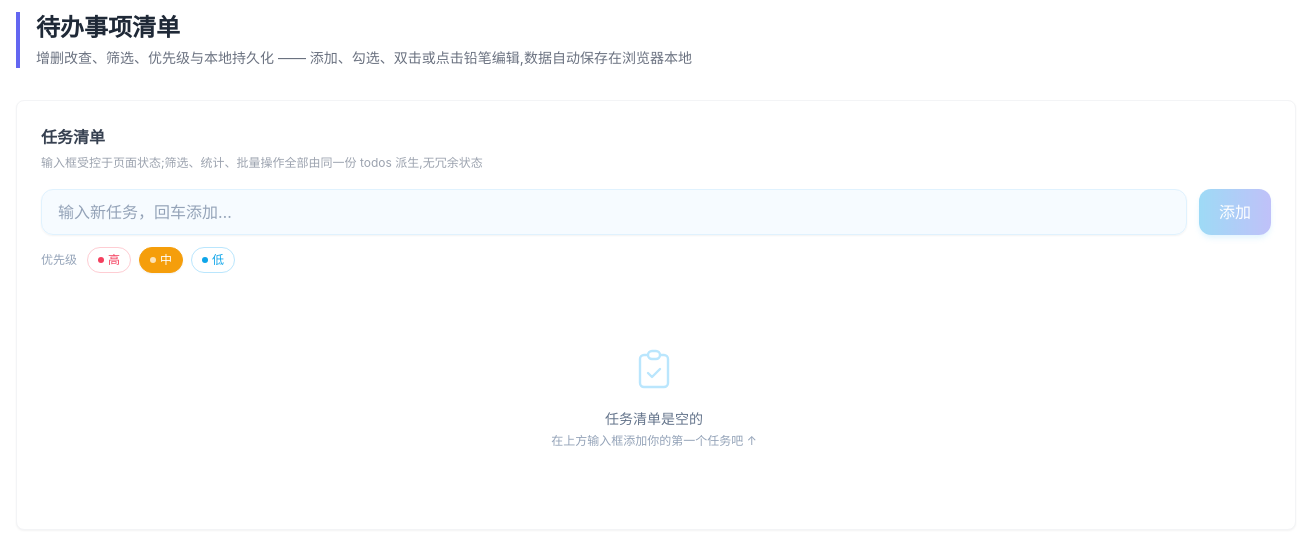
Scenario: Todo 页面 — 任务操作 › 全部已完成时，"全部完成"按钮文字变为"取消全选"
Type "唯一任务" into the field with placeholder "输入新任务，回车添加…".
click(614, 212); type("唯一任务")  # box [41,188,1187,234]
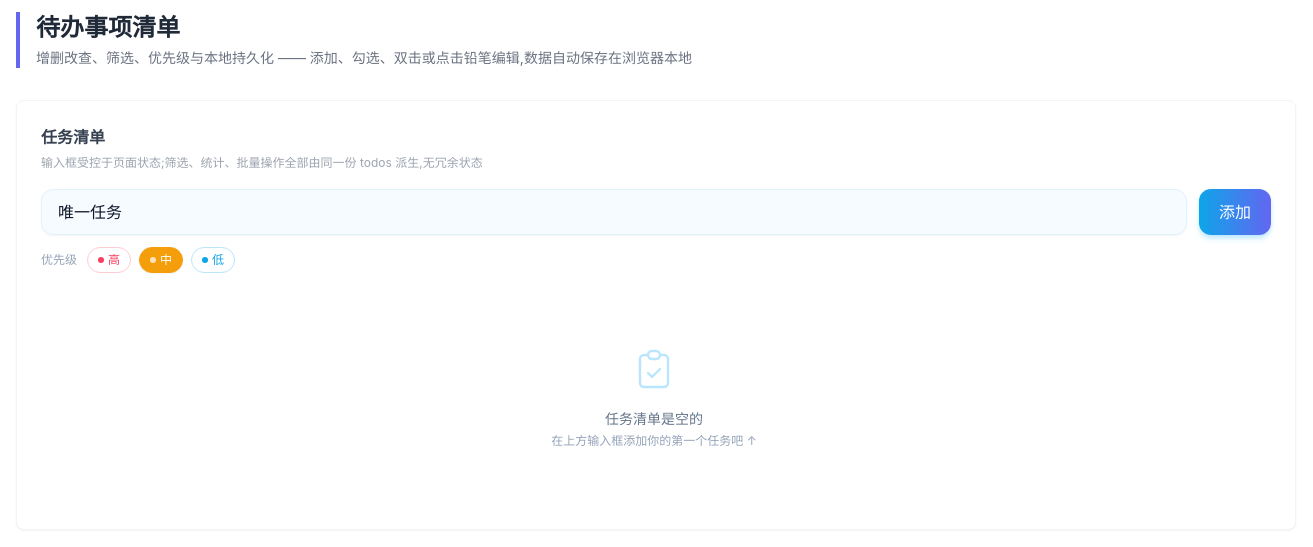
Click the button "添加".
click(1235, 212)  # box [1199,188,1271,234]
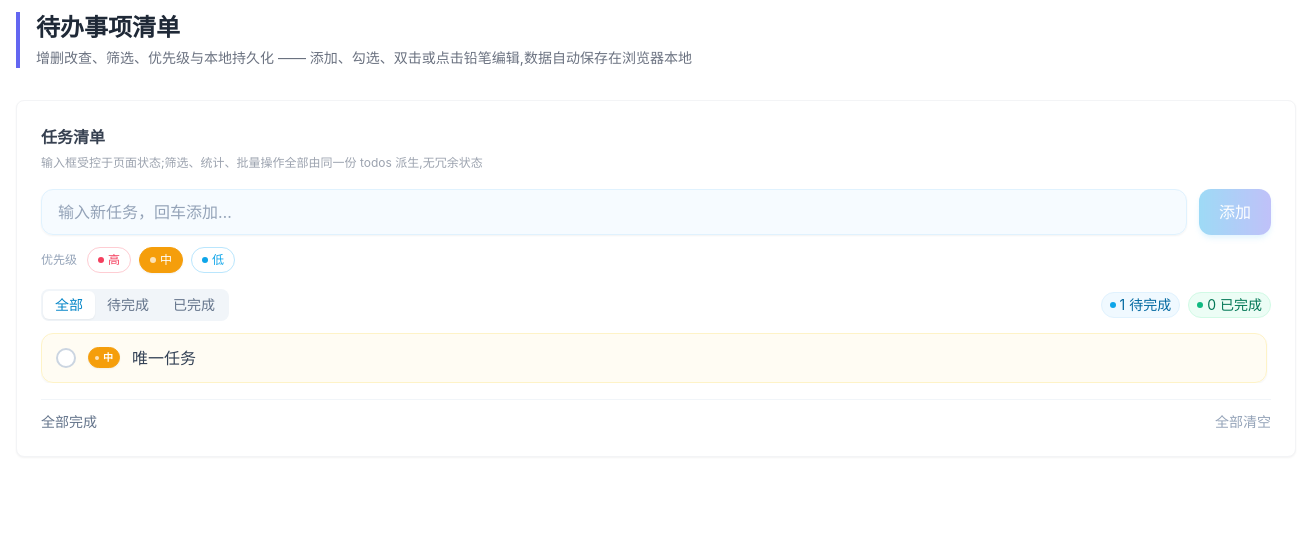
Click the button named "标记为已完成".
click(66, 358)  # box [56,348,76,368]
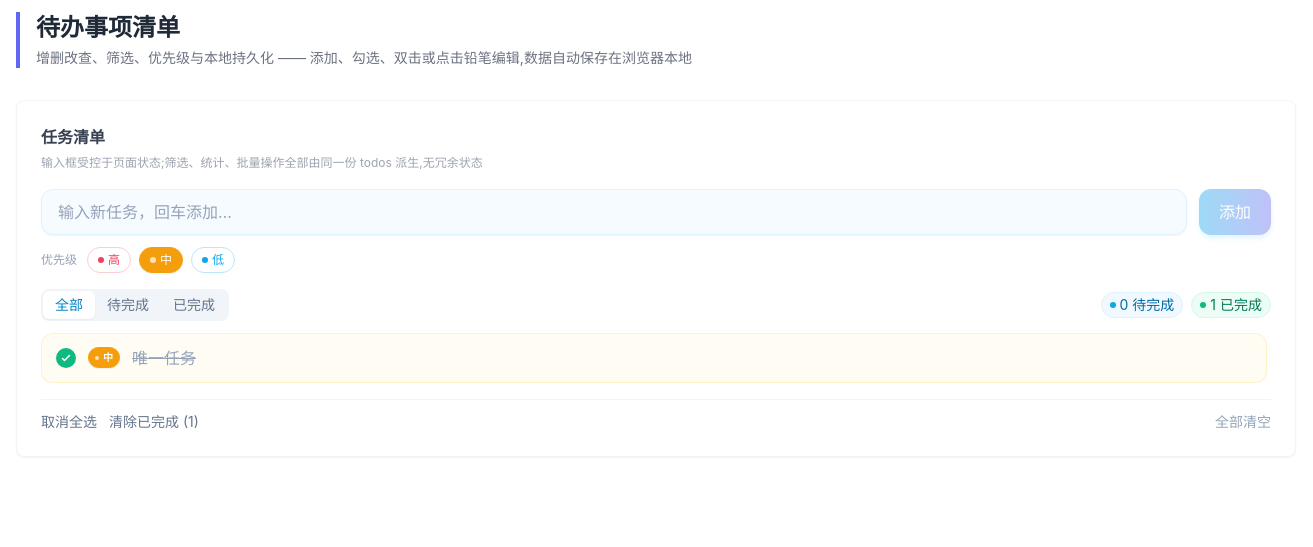
Result: the button "取消全选" is shown at [41,412,97,432]
